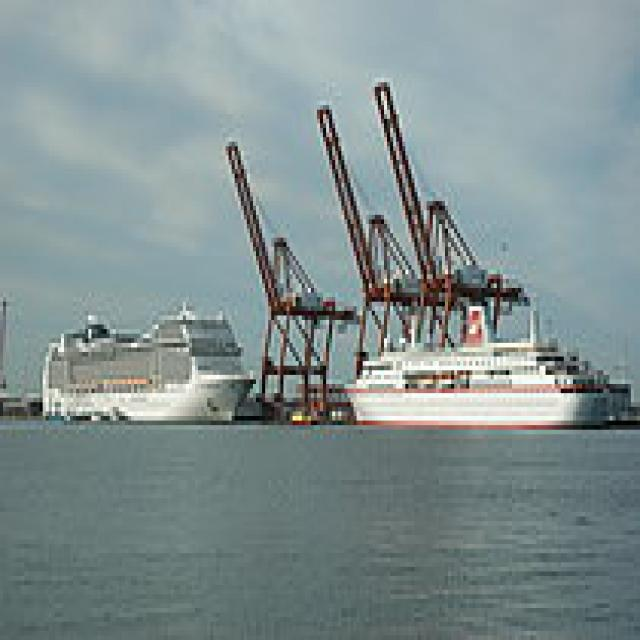Ship: (336, 326, 629, 445), (35, 294, 261, 431)
